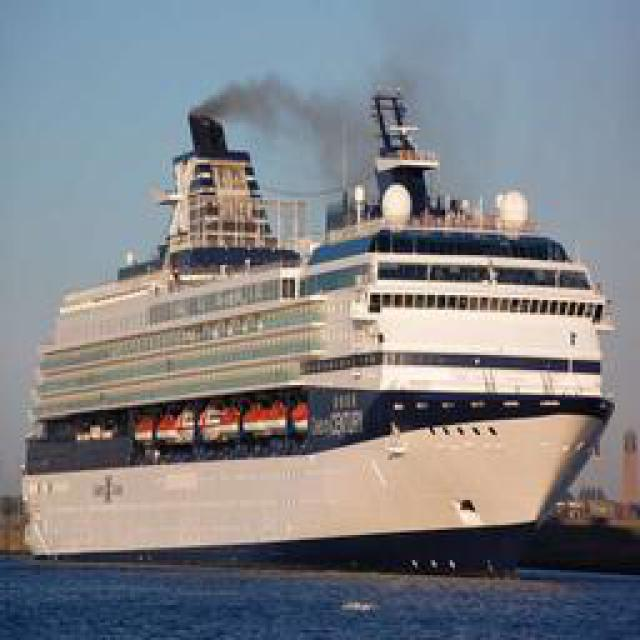Ship: (1, 89, 619, 574)
